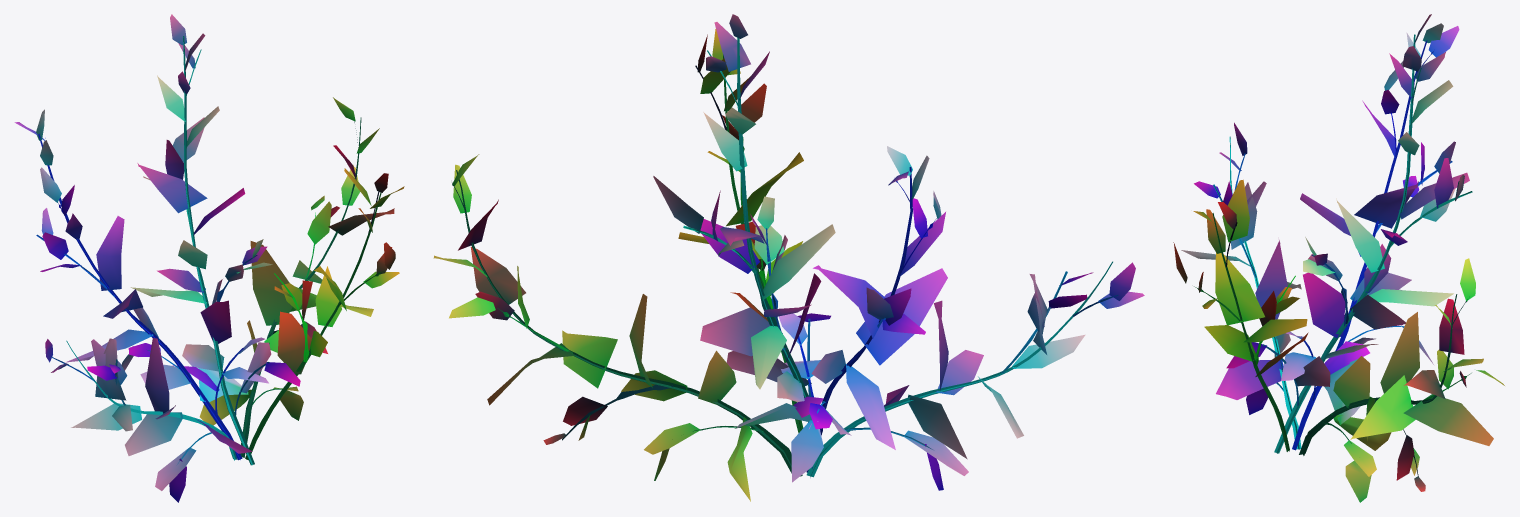
Rendered from Creeping_Saltbush_thckfiqr_Mid_thckfiqr_VarB_LOD0.fbx.
The picture shows the model from 3 angles, left to right: view 1: azimuth 30°, elevation 25°; view 2: azimuth 150°, elevation 25°; view 3: azimuth 270°, elevation 25°; orthographic projection. The views are drawn at different scales.
Visible parts, largest first — view 1: _eb34_VarB_LOD1; view 2: _eb34_VarB_LOD1; view 3: _eb34_VarB_LOD1.
Part boxes in pixels (x1,y1,x2,y2): _eb34_VarB_LOD1: [14, 14, 404, 502]; _eb34_VarB_LOD1: [433, 14, 1144, 501]; _eb34_VarB_LOD1: [1173, 14, 1504, 502].
Bounding box in the file's own units: 44.73 × 40.5 × 27.56.
